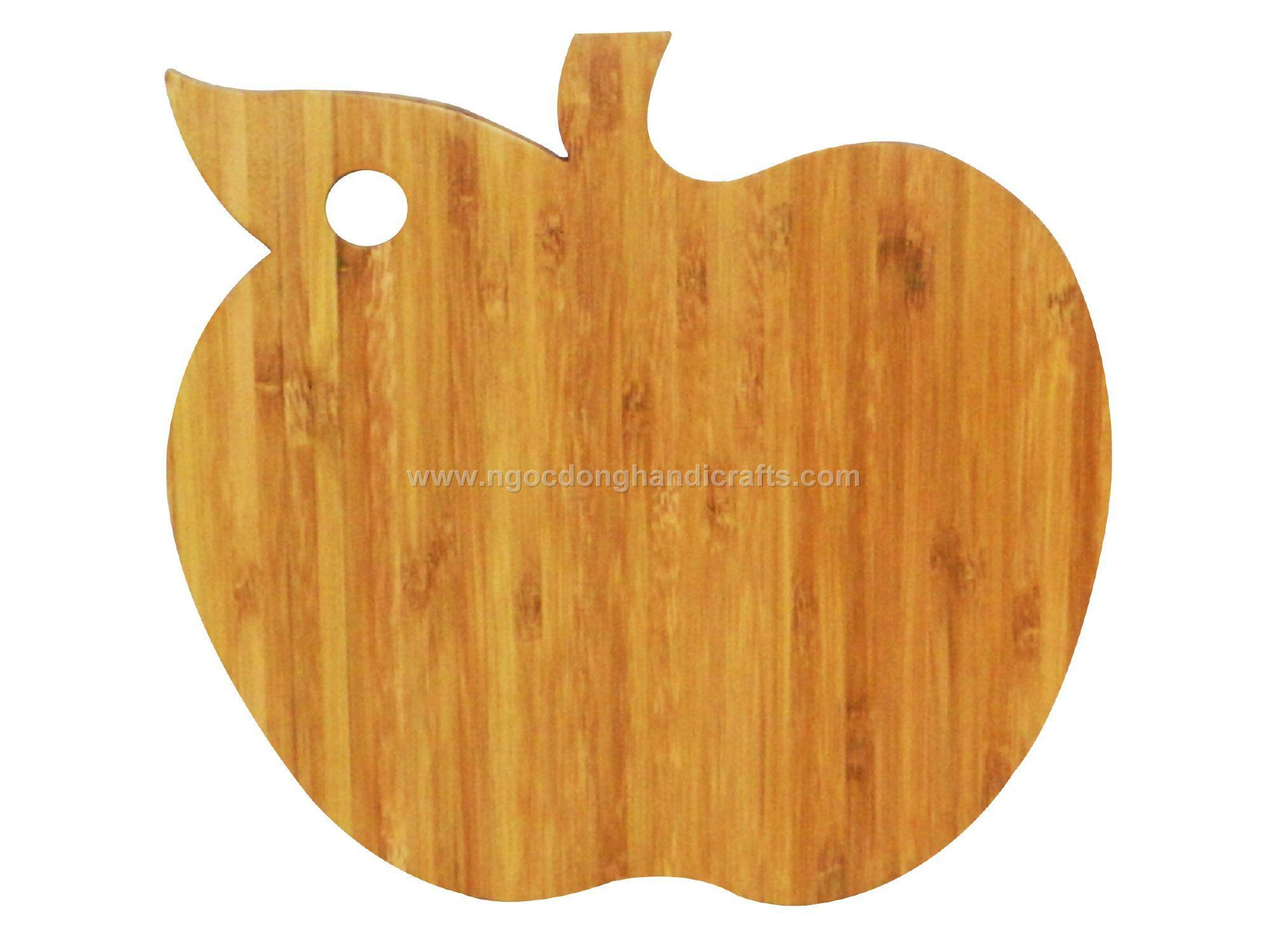gloved_hand: (115, 30, 1115, 910)
